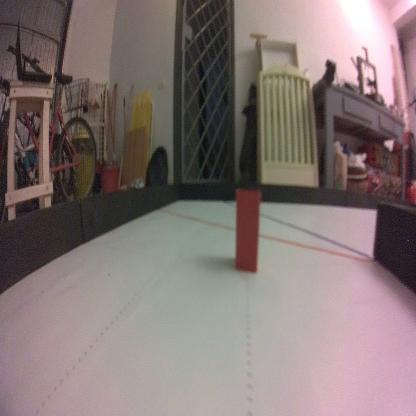red: (233, 187, 262, 276)
